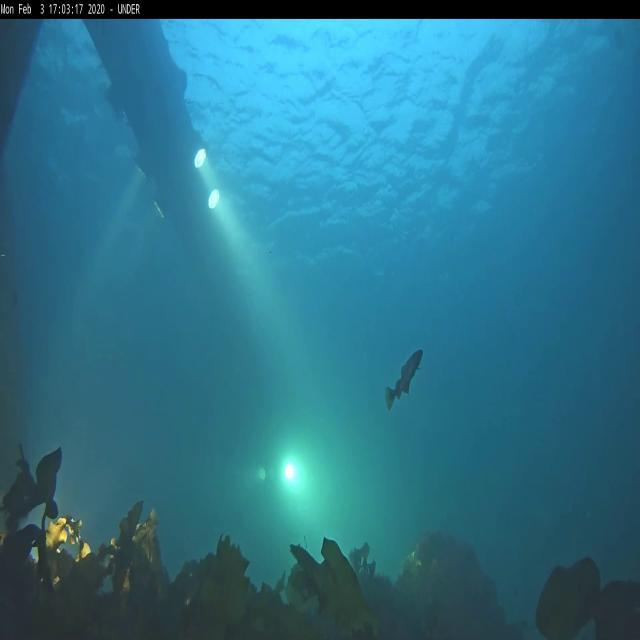fish: (386, 350, 424, 410)
